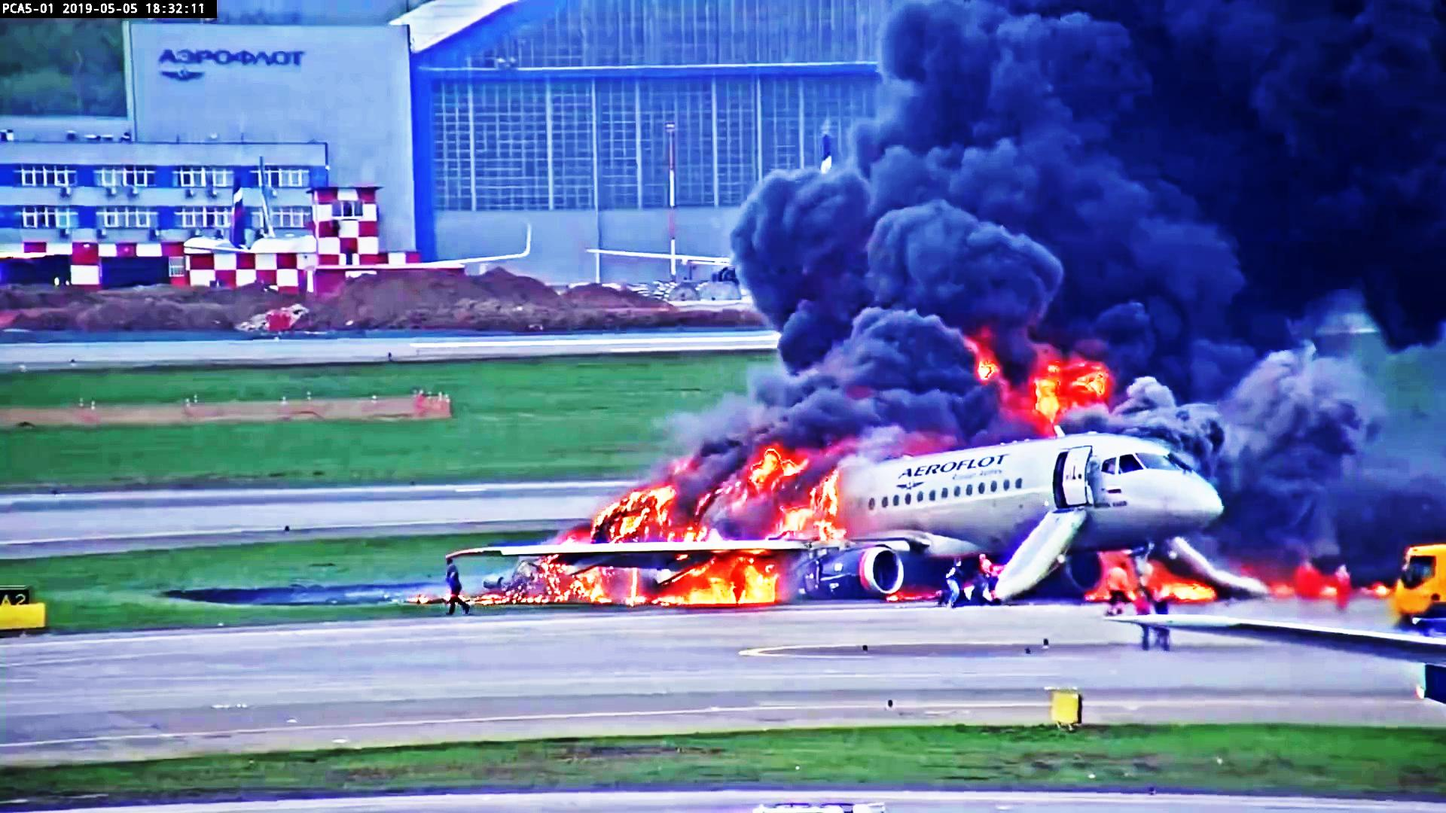fire: (685, 559, 780, 606)
smoke: (870, 21, 1431, 338), (740, 166, 1051, 384), (1212, 335, 1375, 473)
